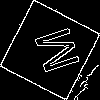M: (25, 25, 81, 78)
